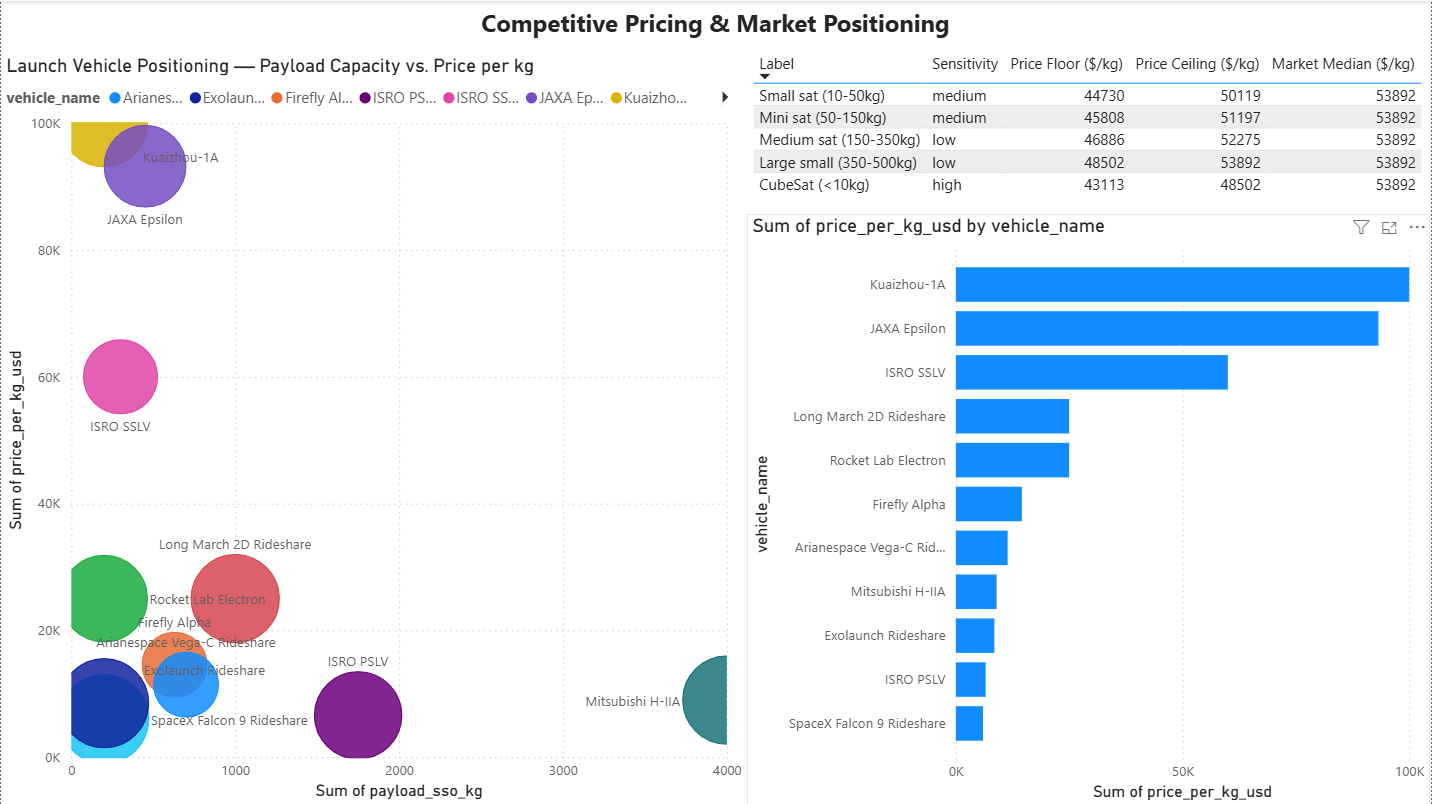

The dashboard page shown, as its layout file describes it:
{"tool":"powerbi","page":{"name":"Competitive Pricing","canvas":[1280,720],"ordinal":1},"visuals":[{"type":"scatterChart","title":"Launch Vehicle Positioning — Payload Capacity vs. Price per kg","fields":{"X":["Sum(positioning_matrix.payload_sso_kg)"],"Y":["Sum(positioning_matrix.price_per_kg_usd)"],"Category":["positioning_matrix.vehicle_name"],"Size":["Sum(positioning_matrix.bubble_size)"],"Series":["positioning_matrix.vehicle_name"]},"box":[0,47.3,668,673],"z":0},{"type":"tableEx","fields":{"Values":["price_to_win.label","price_to_win.price_sensitivity","Sum(price_to_win.ptw_low_usd_kg)","Sum(price_to_win.ptw_high_usd_kg)","Sum(price_to_win.dedicated_median)"]},"box":[668,41.1,612,149.3],"z":1000},{"type":"clusteredBarChart","fields":{"Category":["positioning_matrix.vehicle_name"],"Y":["Sum(positioning_matrix.price_per_kg_usd)"]},"box":[668,190.3,612,529.9],"z":2000},{"type":"textbox","box":[270.1,0,738.7,40.9],"z":3000}]}

Visuals, with their boxes in screenshot pixels (x1, y1, x2, y2), scaled from the page's 1280x720 canvas onto the 1432x804 screenshot:
"Launch Vehicle Positioning — Payload Capacity vs. Price per kg" scatterChart: <box>0,53,747,803</box>
tableEx - price_to_win.label x price_to_win.price_sensitivity: <box>747,46,1431,213</box>
clusteredBarChart - positioning_matrix.vehicle_name x Sum(positioning_matrix.price_per_kg_usd): <box>747,213,1431,803</box>
textbox: <box>302,0,1129,46</box>
